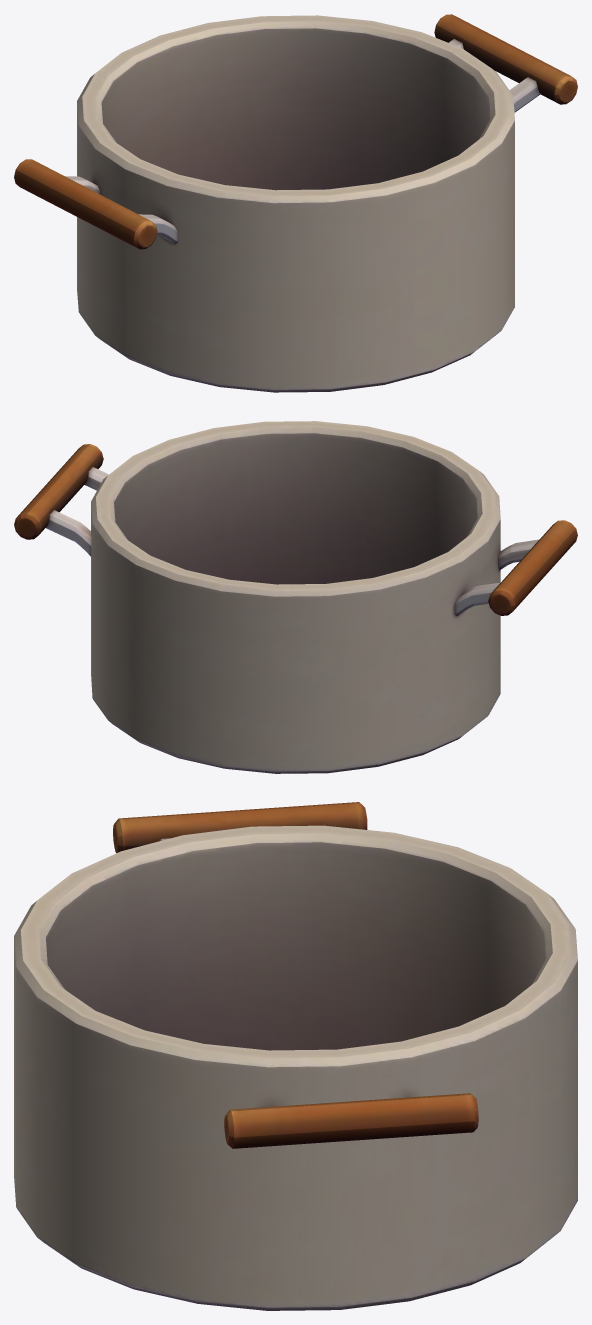
Rendered from stockpot.glb.
The picture shows the model from 3 angles, top to bottom: view 1: azimuth 30°, elevation 25°; view 2: azimuth 150°, elevation 25°; view 3: azimuth 270°, elevation 25°; orthographic projection. The views are drawn at different scales.
Visible parts, largest first — view 1: guo.001; view 2: guo.001; view 3: guo.001.
Boxes of the visible parts, x1,y1,x2,y2 form: guo.001: (14,14,577,392); guo.001: (14,421,577,773); guo.001: (14,802,577,1310).
Bounding box in the file's own units: 1.72 × 0.6236 × 1.26.
1 material, 1 textured.
